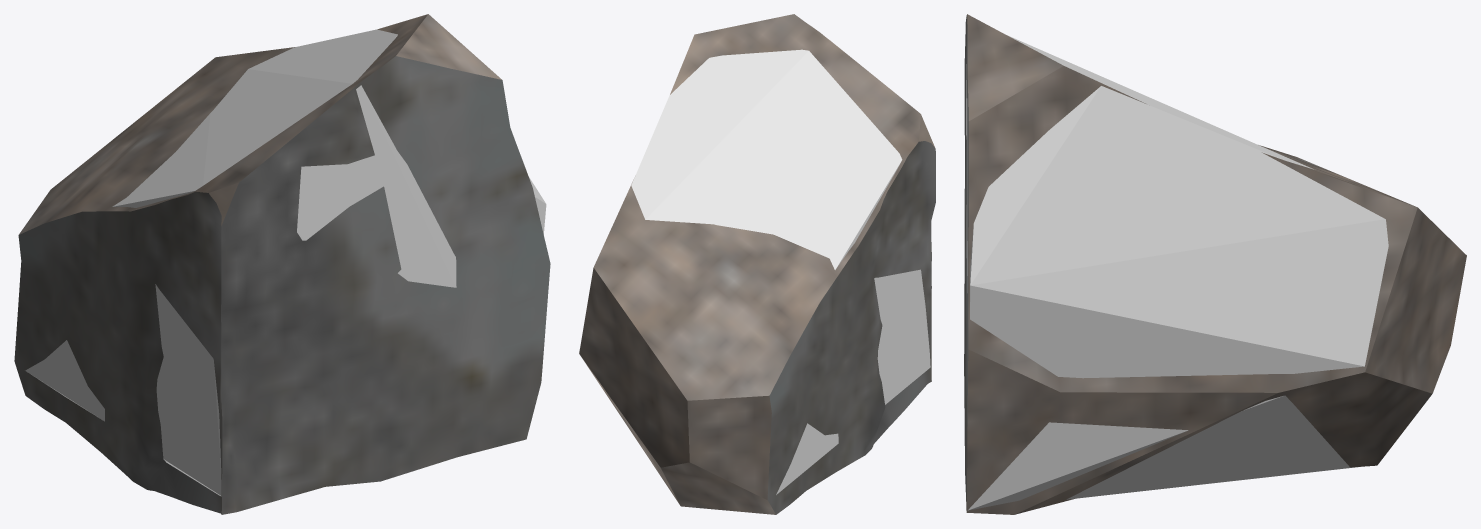
Rendered from SM_Rock_30.fbx.
3 views of the same model, side by side, from view 1: azimuth 30°, elevation 25°; view 2: azimuth 150°, elevation 25°; view 3: azimuth 270°, elevation 25° (orthographic). The views are drawn at different scales.
Parts seen in each view (by area): view 1: SM_Rock_30_LOD0, SM_Rock_30_ConvexHulls; view 2: SM_Rock_30_LOD0, SM_Rock_30_ConvexHulls; view 3: SM_Rock_30_ConvexHulls, SM_Rock_30_LOD0.
Boxes of the visible parts, x1,y1,x2,y2 form: SM_Rock_30_LOD0: (14,14,550,514); SM_Rock_30_ConvexHulls: (25,29,546,496); SM_Rock_30_LOD0: (579,14,935,514); SM_Rock_30_ConvexHulls: (631,49,930,494); SM_Rock_30_ConvexHulls: (966,35,1388,510); SM_Rock_30_LOD0: (964,14,1466,514).
Size of the model in its own units: 18.42 by 23.07 by 24.25.
